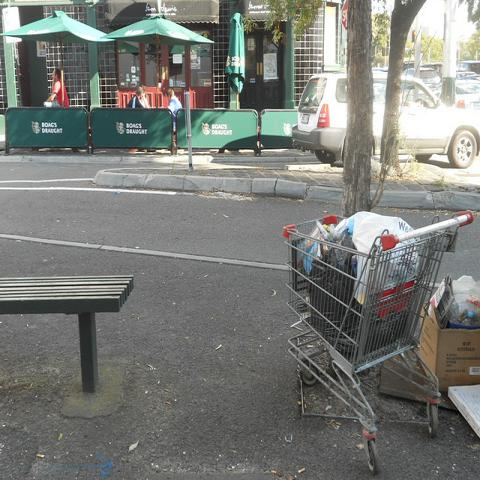car: (291, 71, 479, 170), (401, 68, 442, 98), (454, 89, 480, 121), (455, 71, 479, 94), (456, 59, 480, 78)
